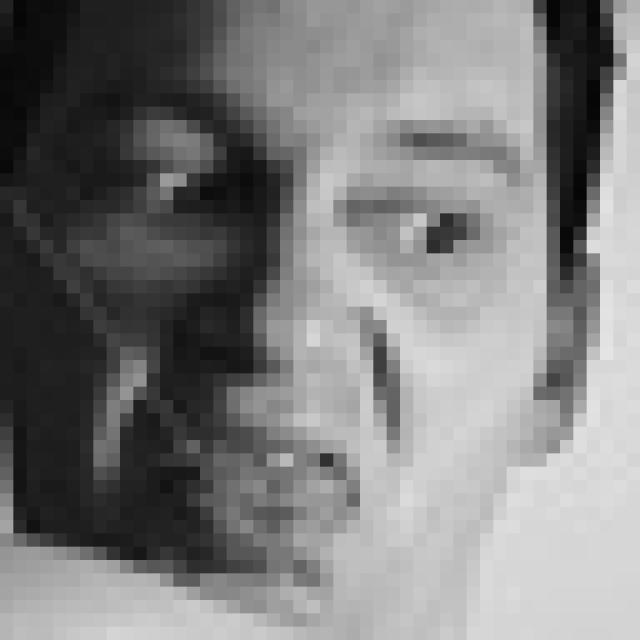disgust: (47, 85, 527, 610)
